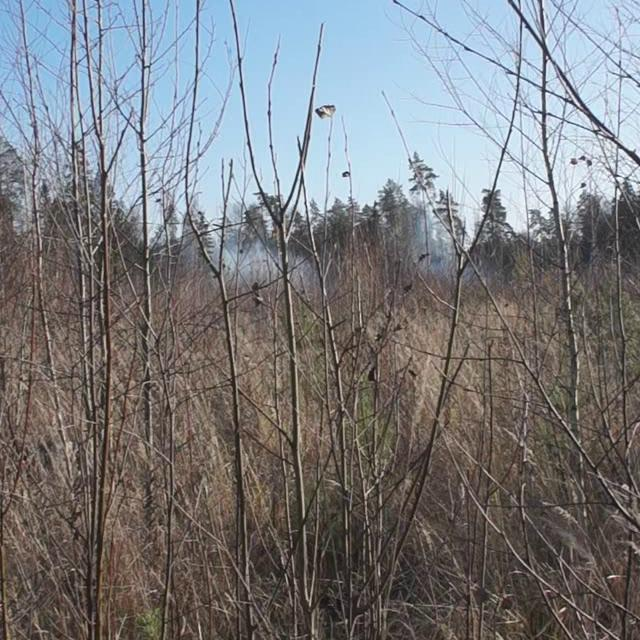Smoke: (186, 228, 309, 289), (402, 211, 483, 289)
